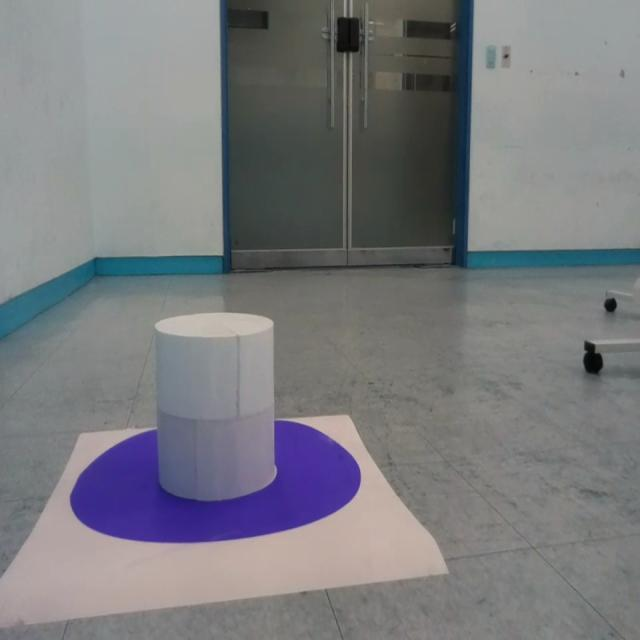cylinder: (153, 312, 277, 500)
